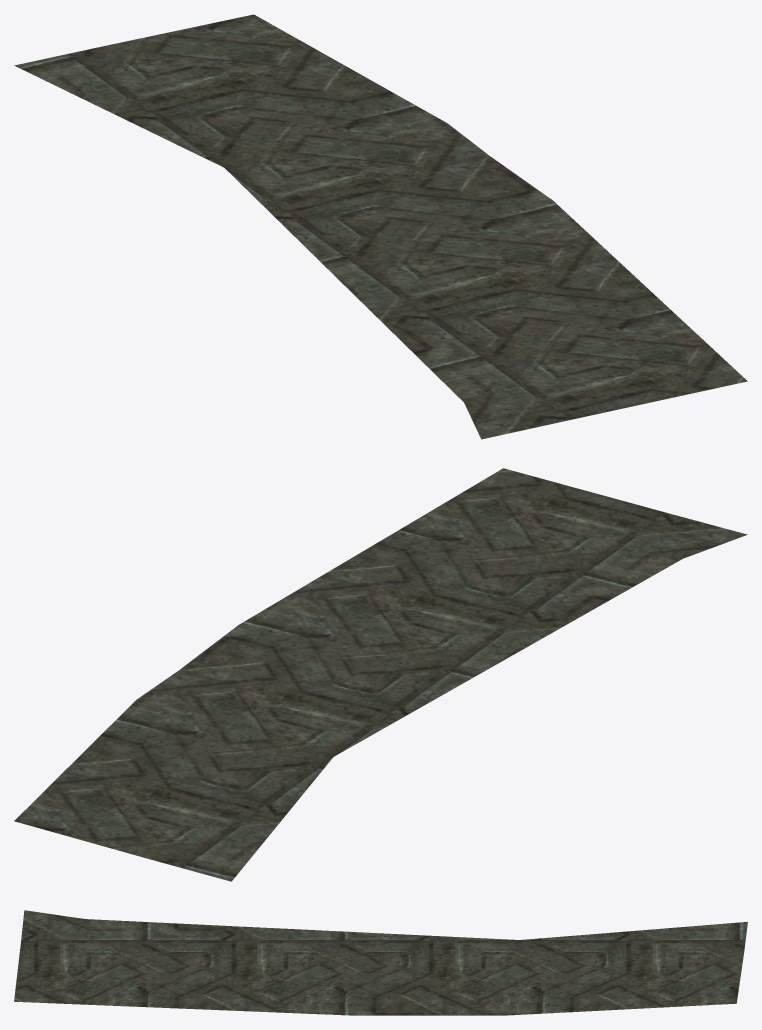
Rendered from CH09_SMAUG_PLAYSURFACE_LAIR500.fbx.
The picture shows the model from 3 angles, top to bottom: view 1: azimuth 30°, elevation 25°; view 2: azimuth 150°, elevation 25°; view 3: azimuth 270°, elevation 25°; orthographic projection. The views are drawn at different scales.
Parts seen in each view (by area): view 1: CH09_SMAUG_PLAYSURFACE_LAIR500; view 2: CH09_SMAUG_PLAYSURFACE_LAIR500; view 3: CH09_SMAUG_PLAYSURFACE_LAIR500.
Part boxes in pixels (bbox=[...]): CH09_SMAUG_PLAYSURFACE_LAIR500: bbox=[14, 14, 747, 439]; CH09_SMAUG_PLAYSURFACE_LAIR500: bbox=[14, 468, 747, 881]; CH09_SMAUG_PLAYSURFACE_LAIR500: bbox=[14, 910, 747, 1015].
Size of the model in its own units: 45596 by 154 by 134125.
1 material, 1 textured.
